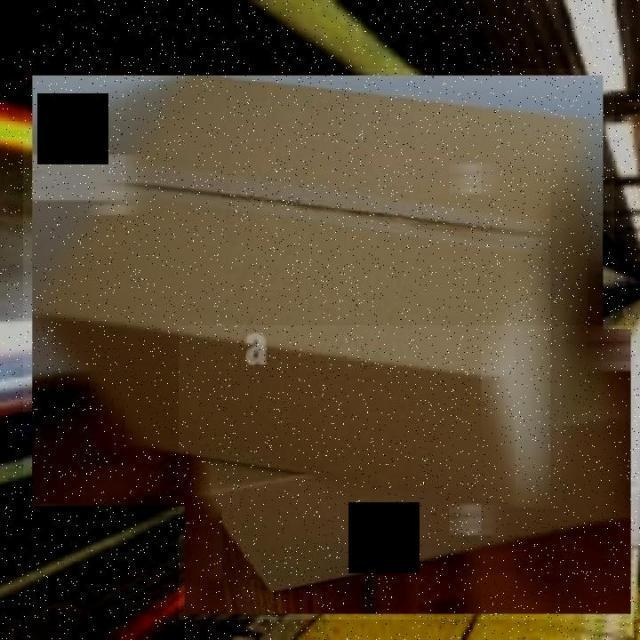box: (23, 68, 614, 514), (178, 326, 638, 620)
